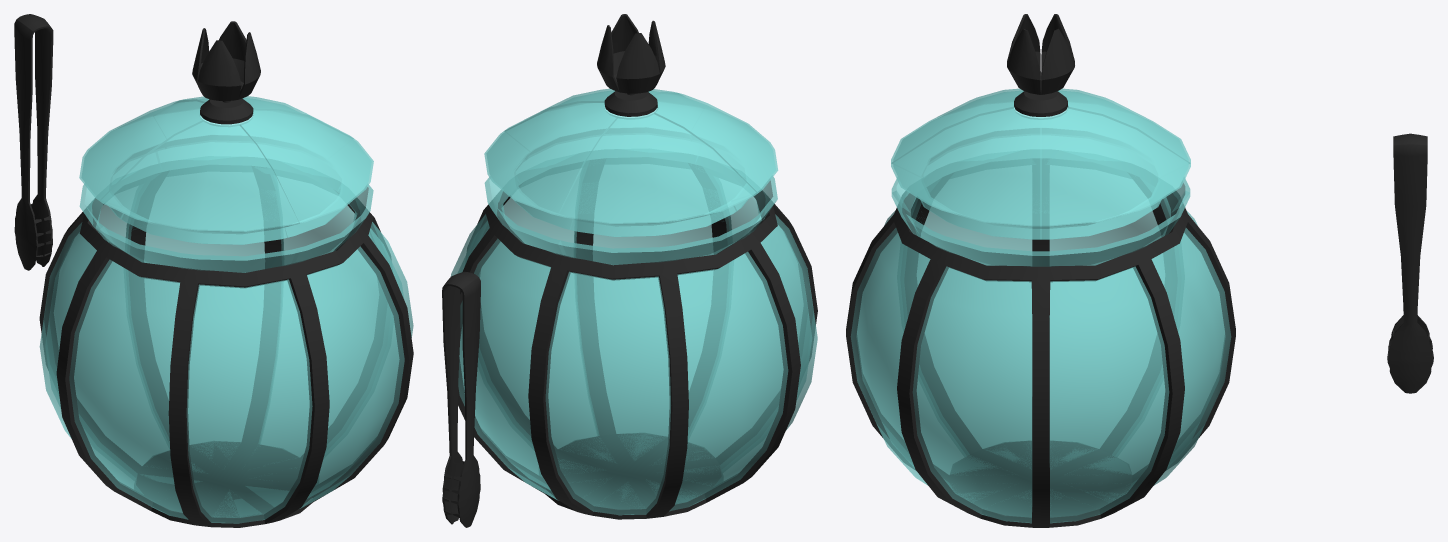
Rendered from sahar.fbx.
3 views of the same model, side by side, from view 1: azimuth 30°, elevation 25°; view 2: azimuth 150°, elevation 25°; view 3: azimuth 270°, elevation 25° (orthographic). The views are drawn at different scales.
Parts seen in each view (by area): view 1: Sphere, Sphere.003, Plane; view 2: Sphere, Sphere.003, Plane; view 3: Sphere, Sphere.003, Plane.
Part boxes in pixels (x1=…): Sphere: x1=39, y1=142, x2=413, y2=527; Sphere.003: x1=79, y1=21, x2=373, y2=244; Plane: x1=14, y1=14, x2=53, y2=270; Sphere: x1=450, y1=135, x2=817, y2=519; Sphere.003: x1=484, y1=14, x2=778, y2=236; Plane: x1=442, y1=271, x2=480, y2=527; Sphere: x1=846, y1=136, x2=1235, y2=527; Sphere.003: x1=891, y1=14, x2=1190, y2=239; Plane: x1=1387, y1=133, x2=1433, y2=393.
Bounding box in the file's own units: 3.47 × 4.58 × 5.23.
